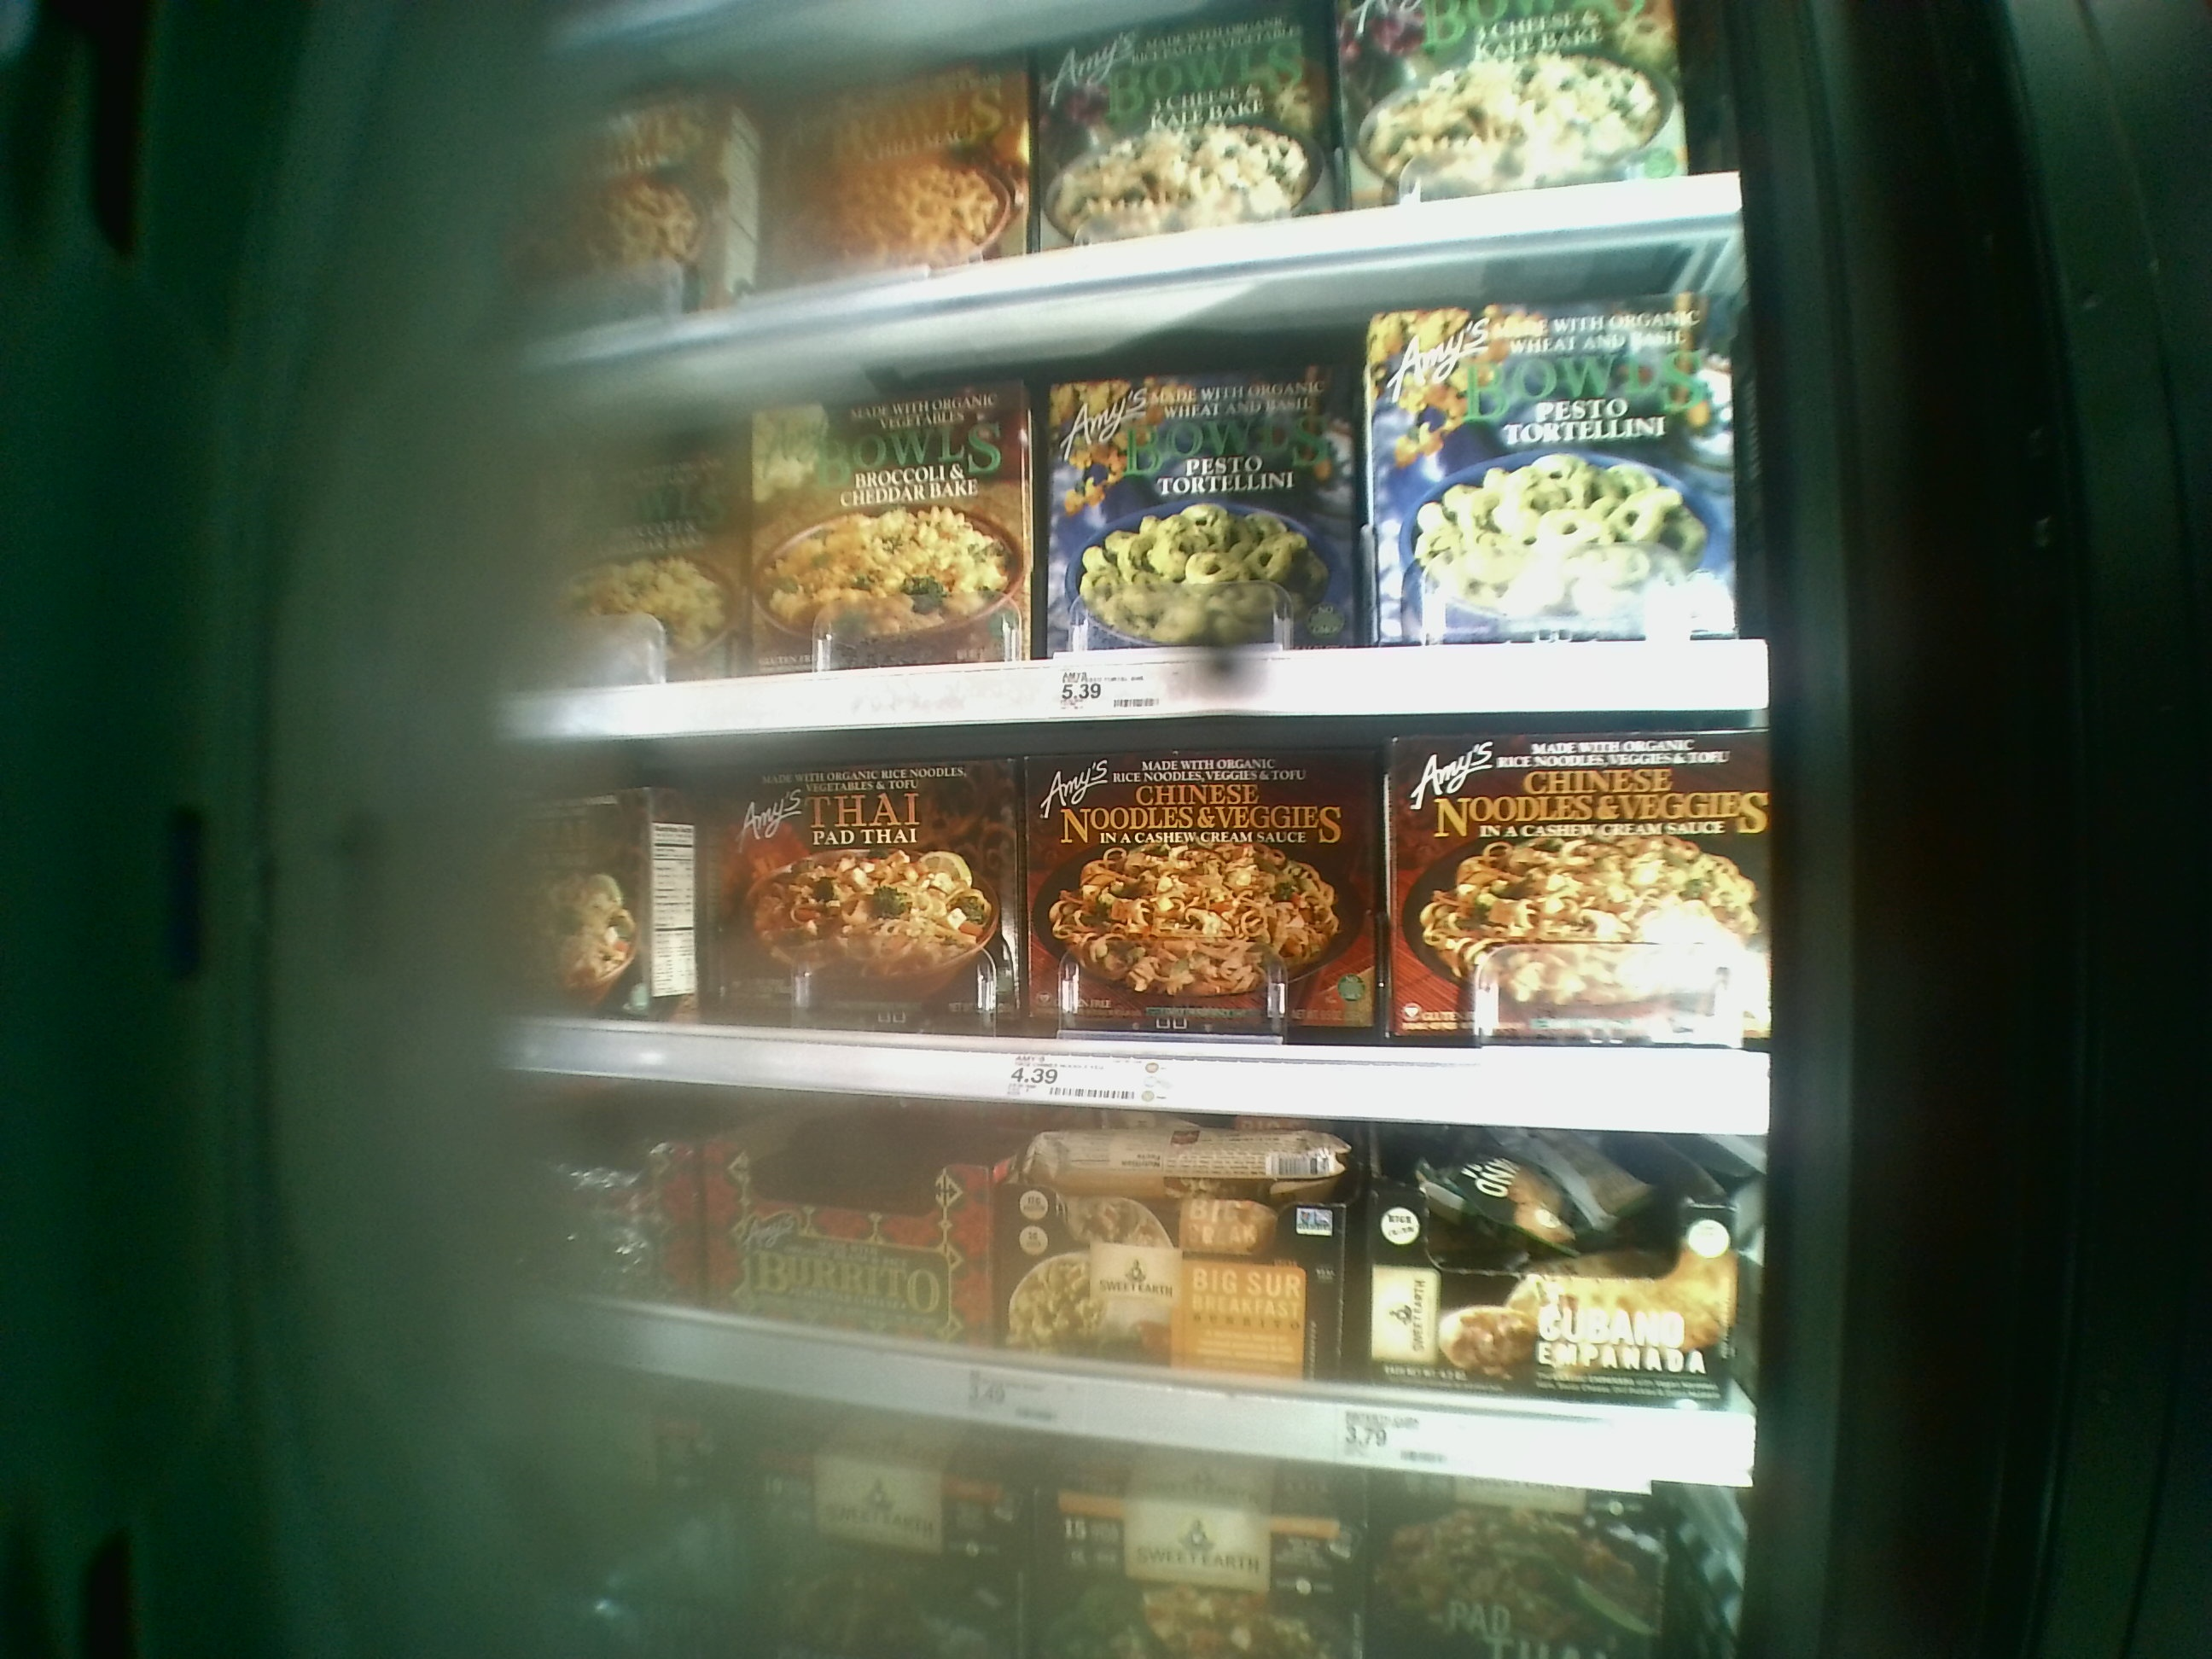frozen-food-shelf: (456, 746, 1777, 1145), (462, 369, 1777, 742), (451, 1148, 1780, 1507)
